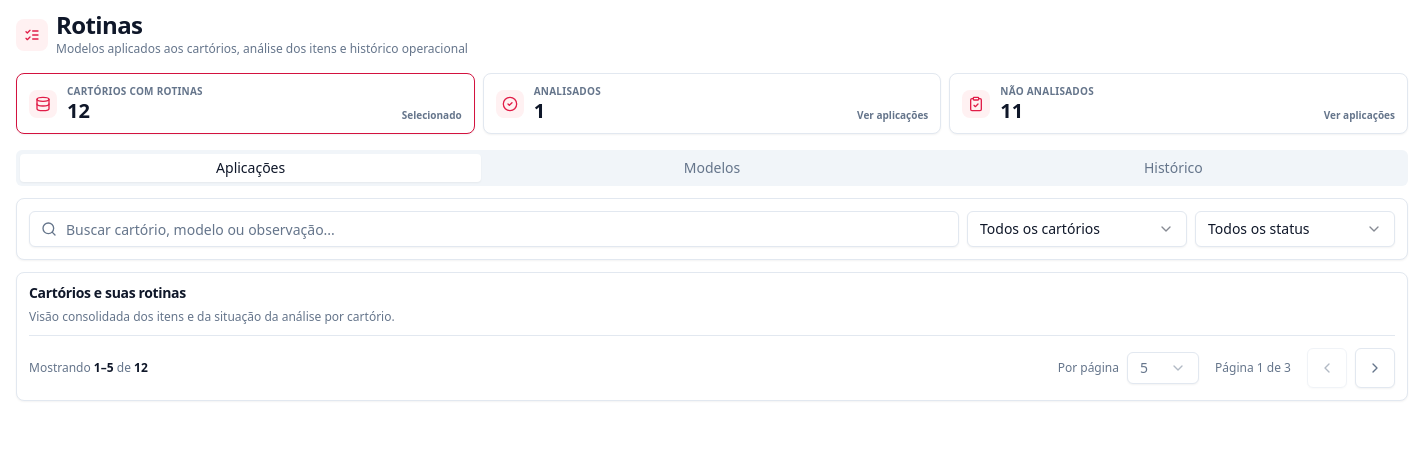
CS/CX rotinas — permissões › abre as aplicações analisadas pelo card
The image size is (1425, 450).
Press the mouse on the tab "Histórico" at {"x": 1173, "y": 168}, box [943,154,1404,182]
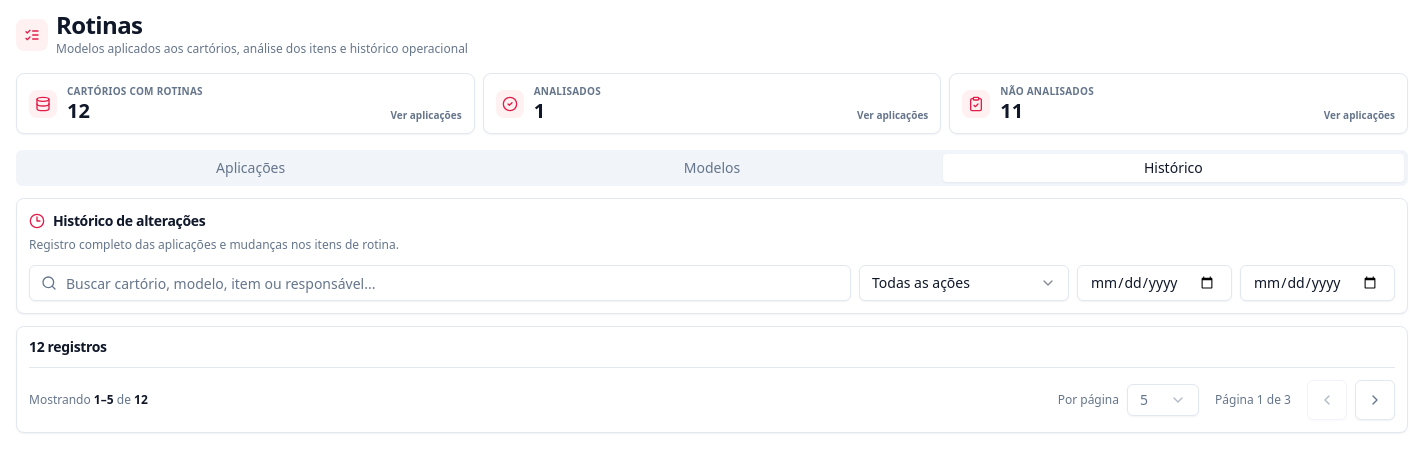
Click the button "Analisados 1 Ver aplicações".
click(567, 91)  # box [484,74,940,133]
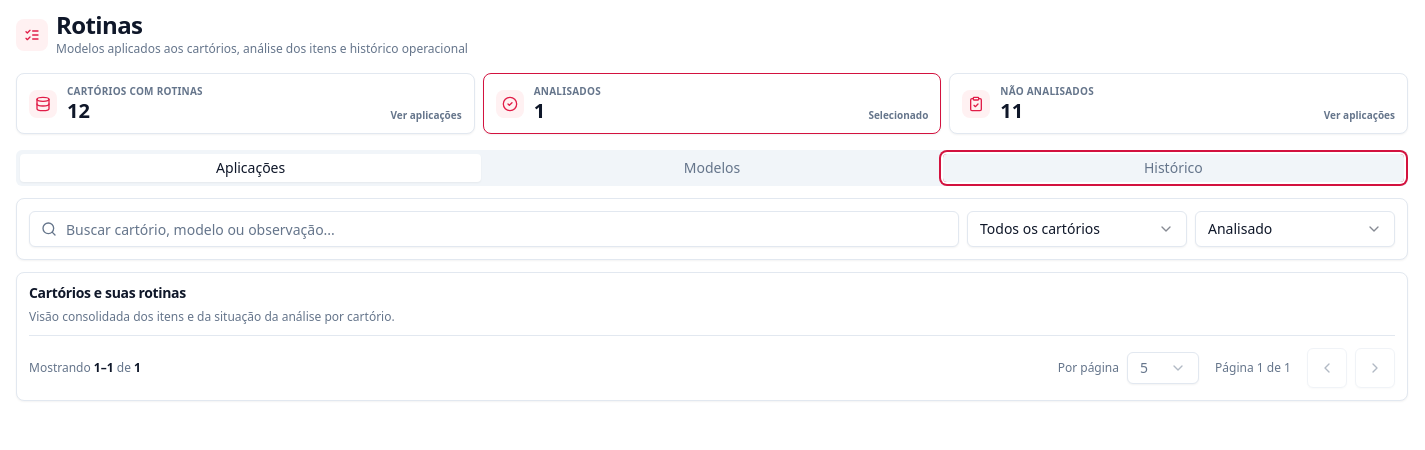
Now the dropdown named "filtrar por status da aplicação" reads "Analisado", box [1195,211,1395,247]
Now the element named "Mostrando 1 a 1 de 1 cartórios" is shown, box [29,360,141,376]
